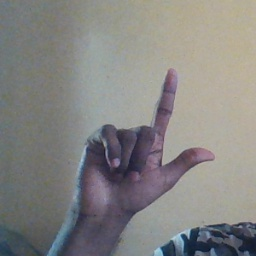L: (61, 66, 217, 216)
